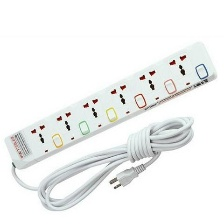three_eye_plug: (1, 37, 217, 171)
